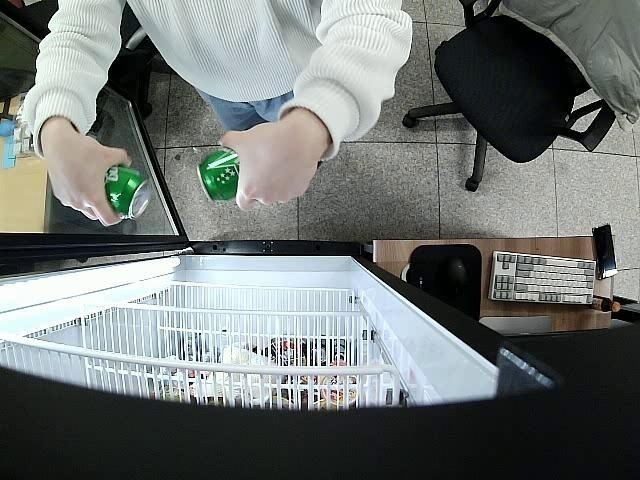12_chilsungCider: (98, 165, 156, 222), (196, 147, 247, 204)
